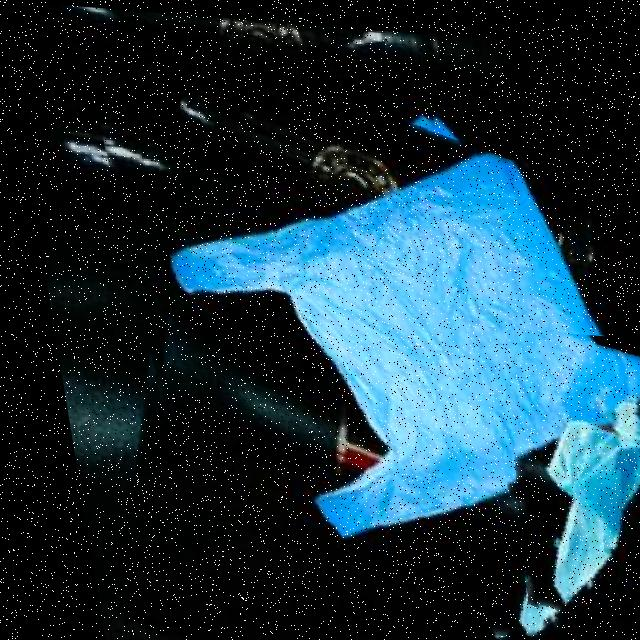plasticcover: (84, 68, 640, 640), (454, 318, 640, 637)
